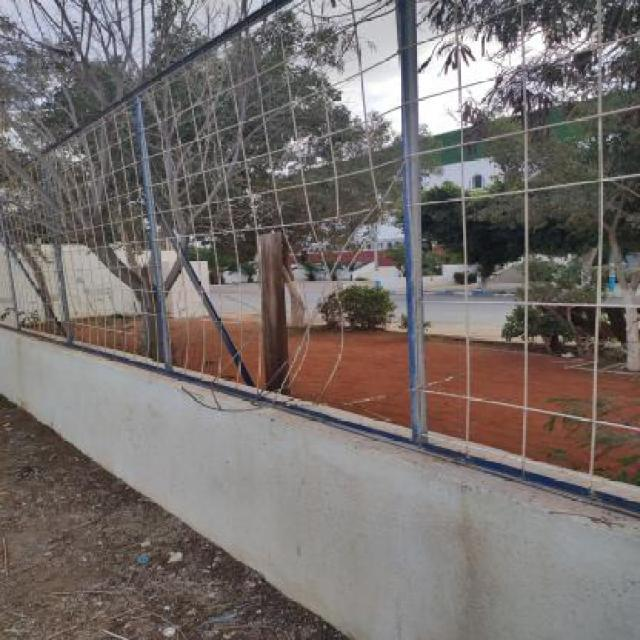fence line: (295, 302, 414, 424), (169, 314, 226, 361)
